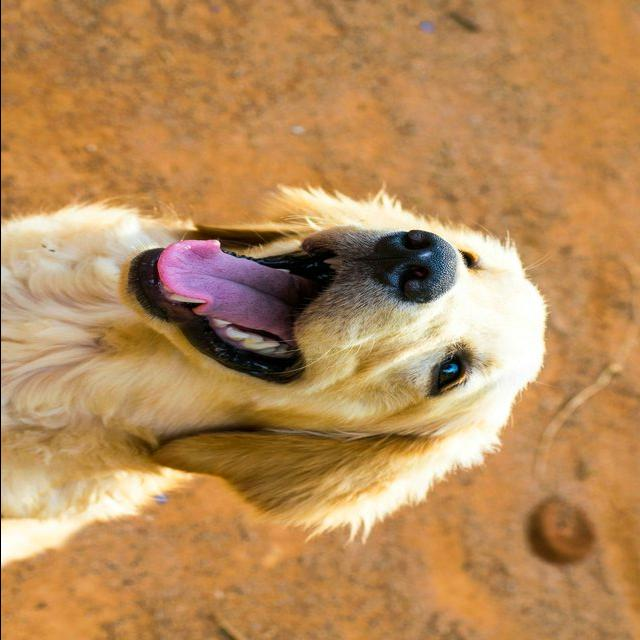retriever: (2, 183, 550, 568)
